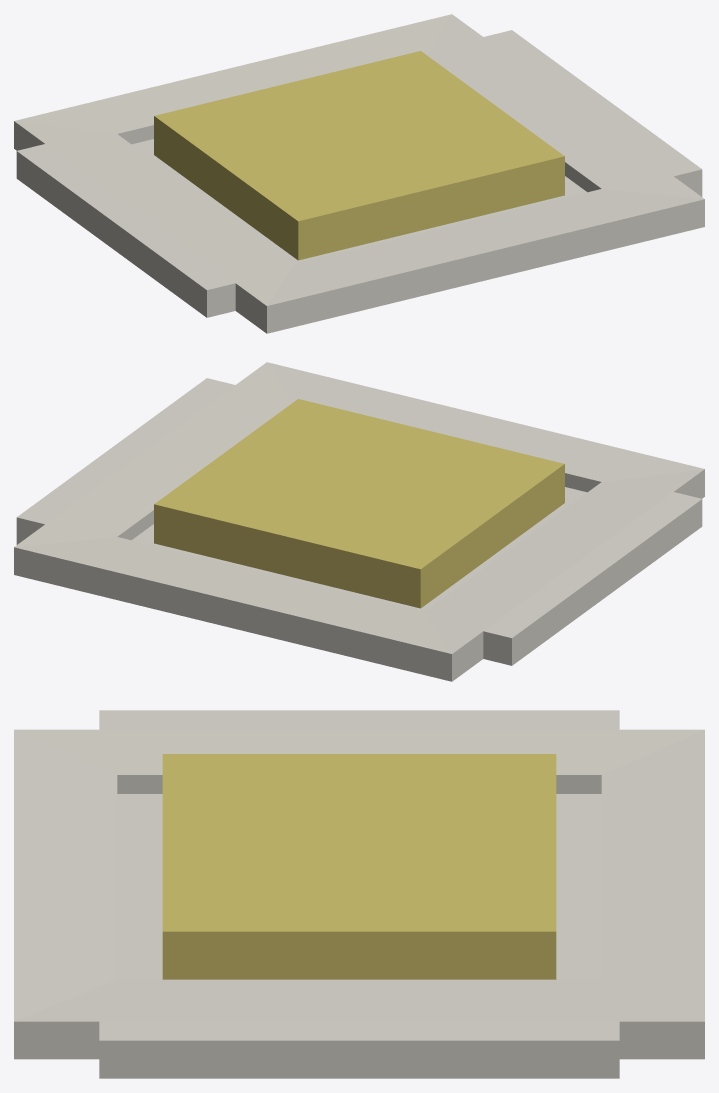
File: plateFilled.fbx
The picture shows the model from 3 angles, top to bottom: view 1: azimuth 30°, elevation 25°; view 2: azimuth 150°, elevation 25°; view 3: azimuth 270°, elevation 25°; orthographic projection. The views are drawn at different scales.
Visible parts, largest first — view 1: plateFilled; view 2: plateFilled; view 3: plateFilled.
Boxes of the visible parts, x1,y1,x2,y2 form: plateFilled: (14, 14, 704, 333); plateFilled: (14, 362, 704, 681); plateFilled: (14, 710, 704, 1078).
Size of the model in its own units: 67.85 by 6.77 by 60.
